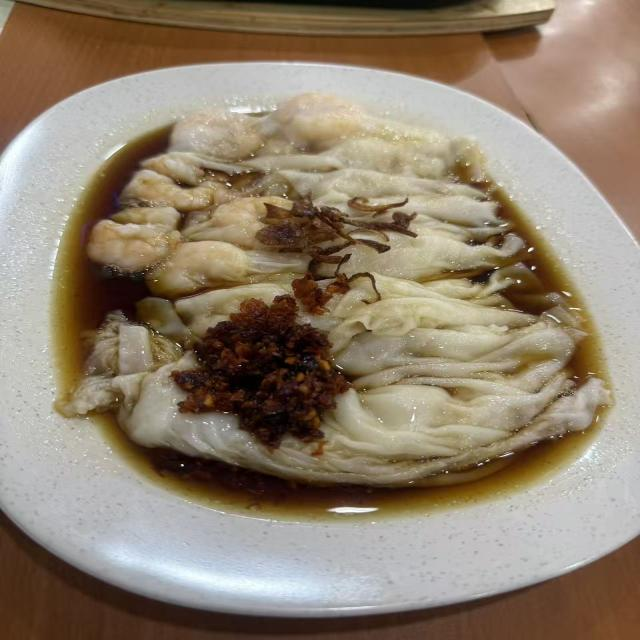Chee Cheong Fun: (45, 34, 622, 571)
